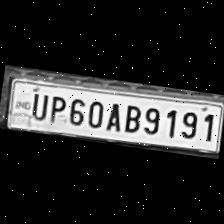0: (84, 96, 107, 130)
1: (160, 104, 181, 138), (198, 108, 218, 142)
6: (64, 94, 88, 128)
9: (176, 106, 200, 140), (140, 103, 164, 136)
A: (104, 98, 124, 132)
B: (118, 100, 142, 134)
P: (46, 92, 68, 124)
U: (25, 89, 49, 122)
